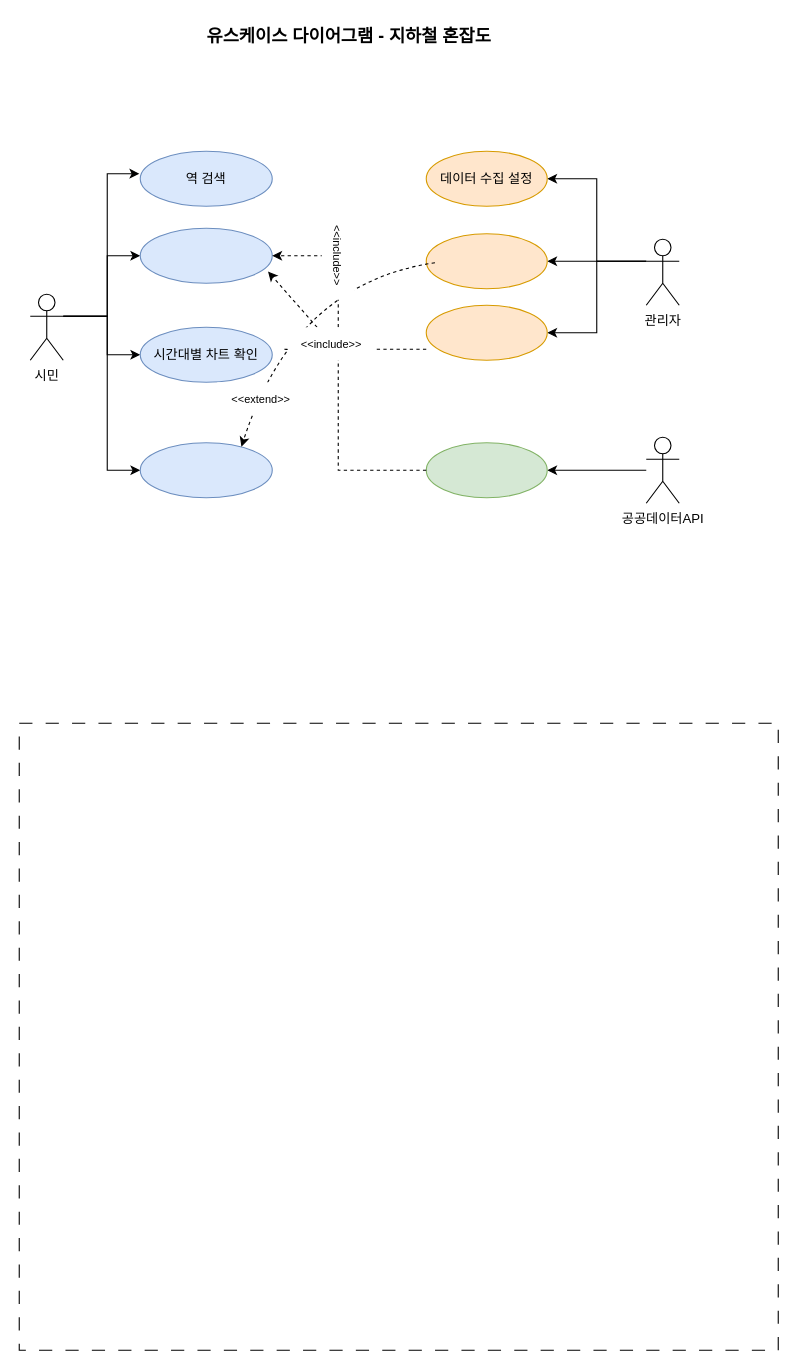
Image size: 798x1370. Some labels were removed from this diagram. The shapes that lost their labels are listed below. From the top down, each one's box as (x1, y1, x2, y2) in pixels, then its label:
(139, 227, 272, 283): 혼잡도 조회
(425, 233, 547, 289): 데이터 관리
(425, 304, 547, 360): 데이터 통계
(139, 442, 272, 498): 환승역
(425, 442, 547, 498): 실시간 데이터 제공
